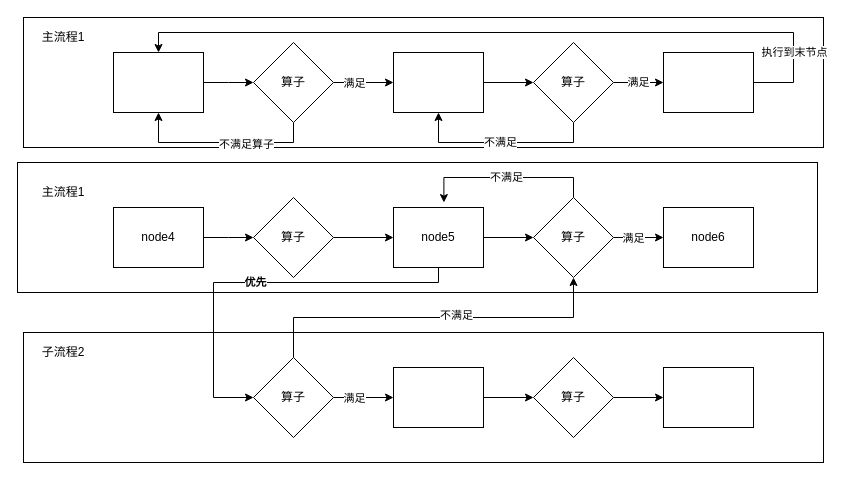
The diagram is 844 pixels wide and 480 high, and some of its shapes have lost their labels. The box of each missing label's shape, as (x1, y1, x2, y2) in pixels:
node1: (112, 52, 204, 112)
node2: (392, 52, 484, 112)
node3: (662, 52, 754, 112)
node8: (392, 366, 484, 428)
node9: (662, 366, 754, 428)
